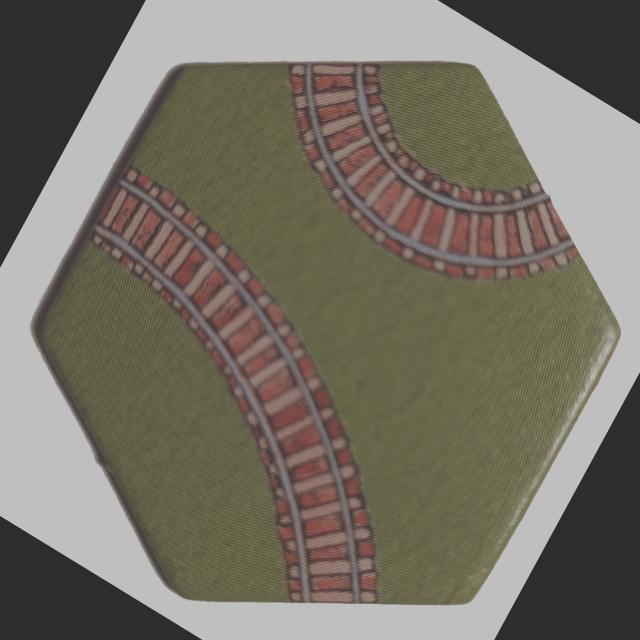15_4: (33, 58, 620, 606)
